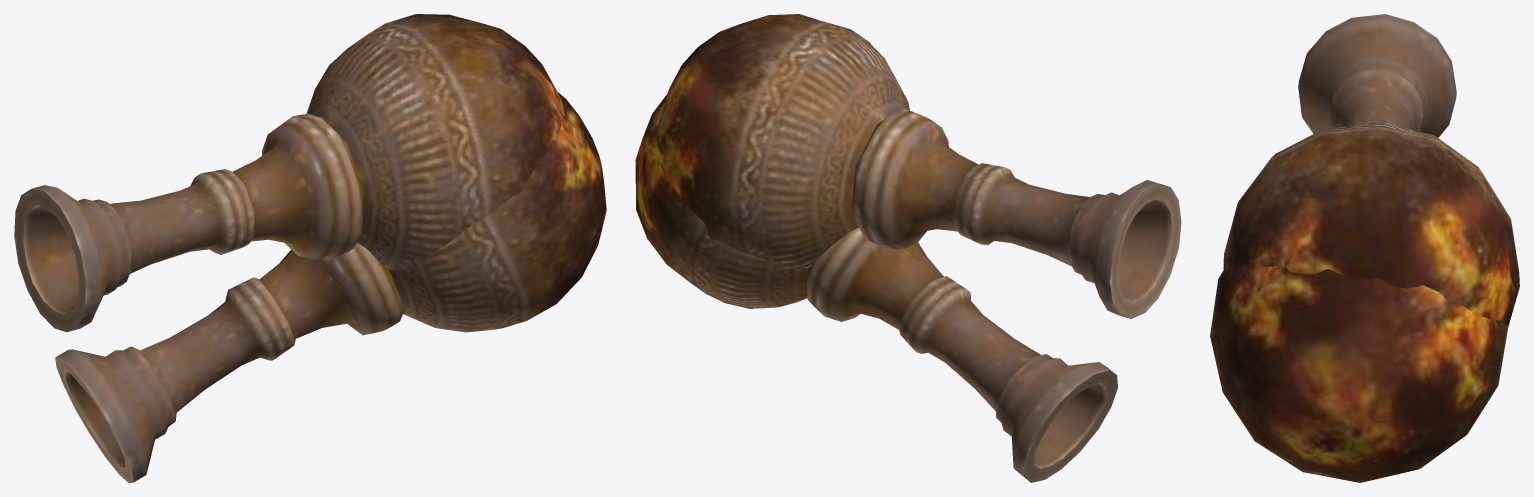
Rendered from weapon-wp_a_1532.glb.
3 views of the same model, side by side, from view 1: azimuth 30°, elevation 25°; view 2: azimuth 150°, elevation 25°; view 3: azimuth 270°, elevation 25° (orthographic). The views are drawn at different scales.
Parts seen in each view (by area): view 1: wp_a_1532_mesh; view 2: wp_a_1532_mesh; view 3: wp_a_1532_mesh.
Part boxes in pixels (box(x1,y1,x2,y2)): wp_a_1532_mesh: box(14, 14, 606, 482); wp_a_1532_mesh: box(635, 14, 1181, 482); wp_a_1532_mesh: box(1210, 14, 1519, 482).
Size of the model in its own units: 0.1071 by 0.0753 by 0.0504.
1 material, 1 textured.
